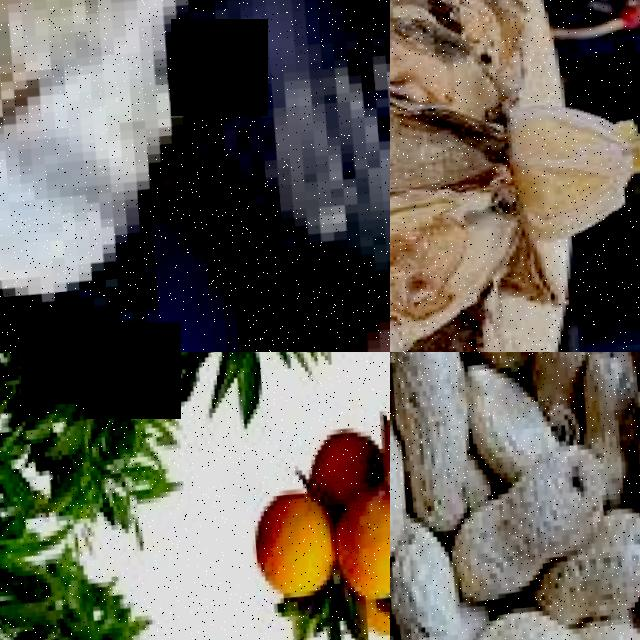orange: (241, 491, 326, 609), (328, 513, 390, 605)
oysters: (0, 0, 281, 330), (390, 178, 512, 352), (390, 0, 502, 154), (416, 0, 530, 85)
peanuts: (434, 452, 608, 612), (390, 352, 471, 527), (390, 537, 452, 640), (457, 609, 640, 640)
